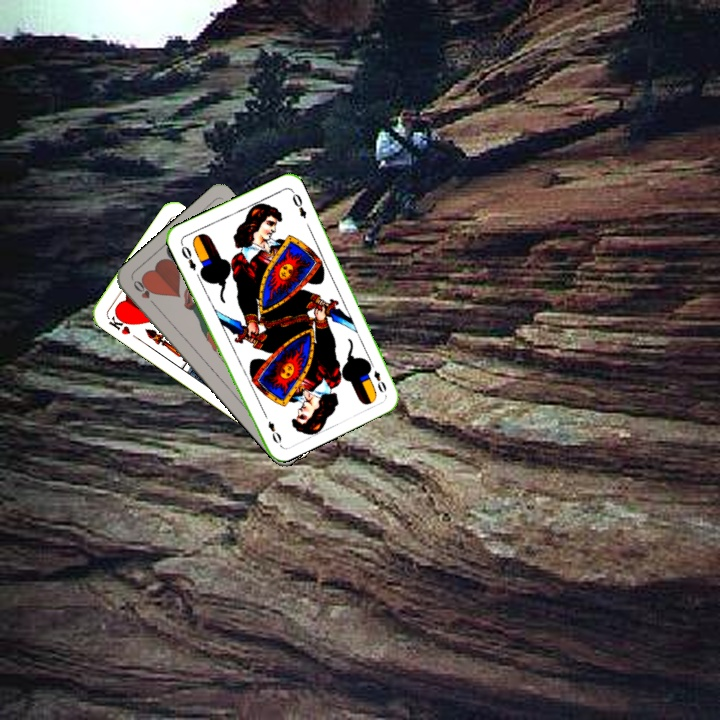EO: (365, 358, 389, 395), (177, 239, 199, 273)
HK: (104, 309, 134, 337)
HO: (129, 276, 160, 310)
